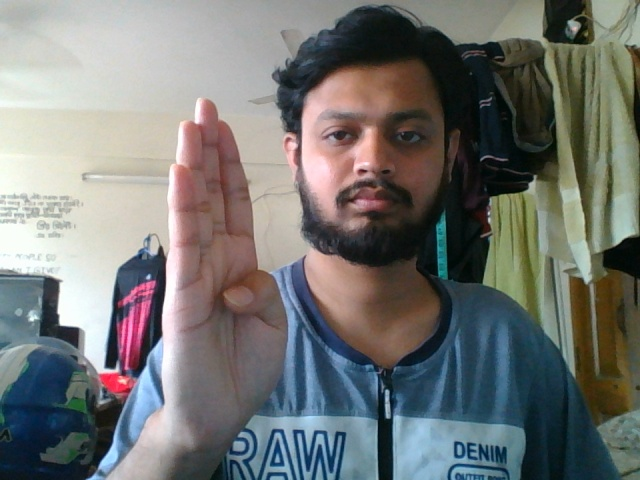ba: (156, 93, 297, 462)
